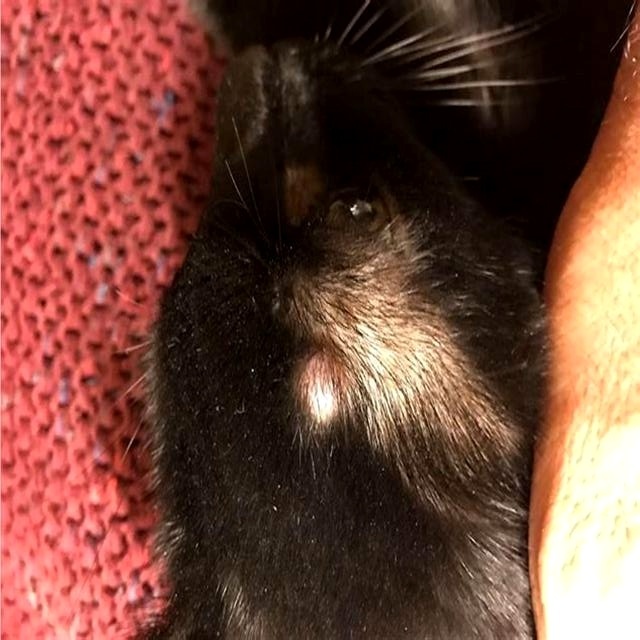lump_and_bump: (298, 371, 345, 415)
